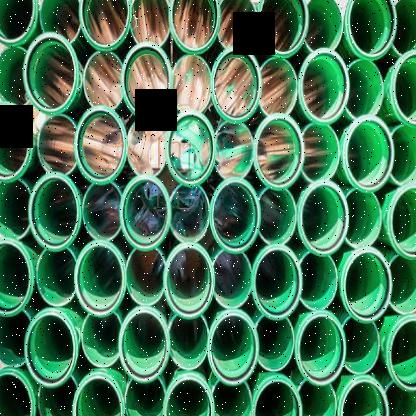pipe: (23, 32, 77, 113), (74, 106, 127, 184), (210, 46, 263, 124), (28, 174, 81, 251), (121, 42, 172, 120), (298, 48, 349, 126), (165, 110, 217, 186), (210, 177, 261, 254), (343, 116, 394, 192), (120, 176, 171, 252), (75, 242, 126, 318), (24, 311, 74, 388), (254, 116, 305, 191), (164, 245, 214, 320), (119, 308, 169, 383), (208, 313, 259, 386), (299, 182, 349, 256), (296, 312, 346, 386), (343, 250, 392, 323), (252, 247, 301, 319), (257, 0, 308, 57), (168, 0, 220, 54), (348, 0, 397, 57), (0, 100, 33, 182), (79, 0, 131, 51), (37, 114, 77, 176), (212, 249, 253, 308), (83, 51, 124, 110), (345, 60, 384, 121), (0, 240, 31, 316), (255, 312, 294, 372), (341, 315, 380, 375), (172, 54, 212, 112), (301, 124, 340, 183), (170, 184, 209, 243), (299, 251, 338, 310), (72, 372, 124, 416), (127, 119, 167, 176), (37, 249, 77, 306), (259, 58, 298, 116), (215, 121, 253, 180), (168, 314, 208, 370), (386, 317, 416, 391), (81, 314, 122, 368), (259, 188, 297, 246), (126, 247, 164, 305), (162, 375, 215, 416), (345, 188, 381, 248), (83, 184, 121, 240), (303, 0, 343, 52), (389, 50, 416, 127), (0, 45, 31, 109), (389, 184, 416, 257), (0, 309, 33, 368), (0, 178, 32, 238), (218, 0, 257, 49), (340, 378, 390, 416), (253, 378, 302, 416), (39, 0, 80, 44), (131, 0, 170, 46), (0, 0, 38, 47), (0, 368, 37, 416), (124, 375, 166, 416), (388, 253, 416, 314), (389, 122, 416, 185), (38, 375, 78, 416), (388, 0, 416, 57), (211, 378, 252, 416), (296, 379, 337, 416)
